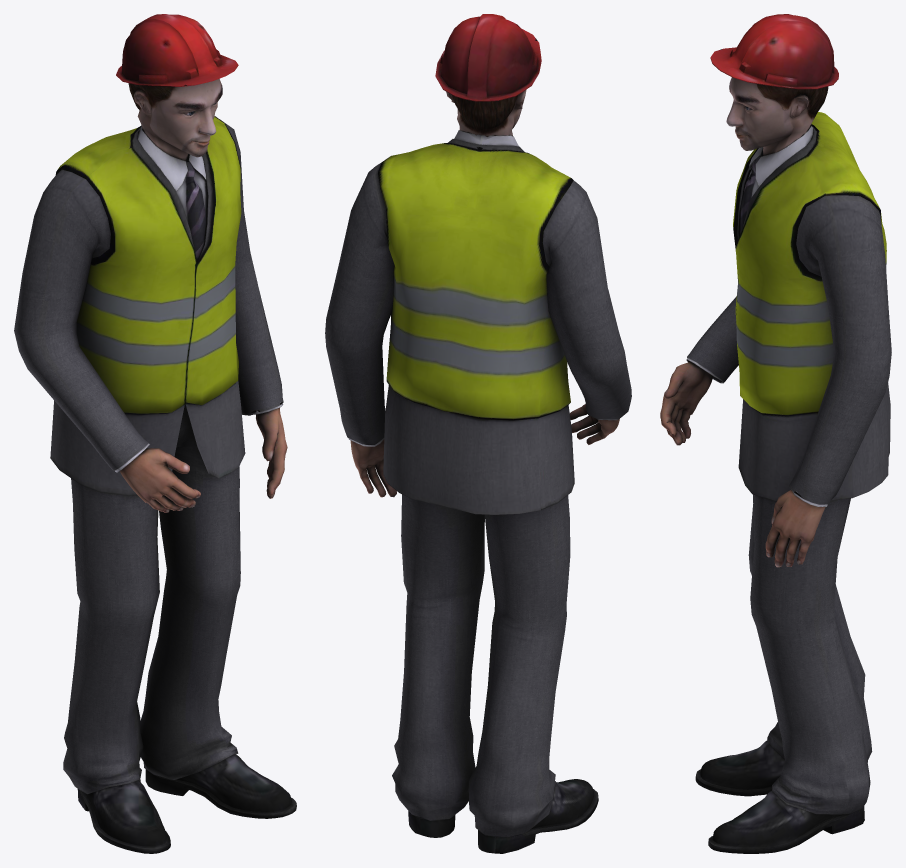
Rendered from SWRK01_01_01.FBX.
3 views of the same model, side by side, from view 1: azimuth 30°, elevation 25°; view 2: azimuth 150°, elevation 25°; view 3: azimuth 270°, elevation 25° (orthographic).
Visible parts, largest first — view 1: SWRK01_01_01; view 2: SWRK01_01_01; view 3: SWRK01_01_01.
Boxes of the visible parts, x1,y1,x2,y2 form: SWRK01_01_01: (14, 14, 296, 853); SWRK01_01_01: (325, 14, 631, 853); SWRK01_01_01: (660, 14, 891, 853).
Size of the model in its own units: 24.61 by 70.15 by 18.59.
Materials: 1 (1 with a texture image).
